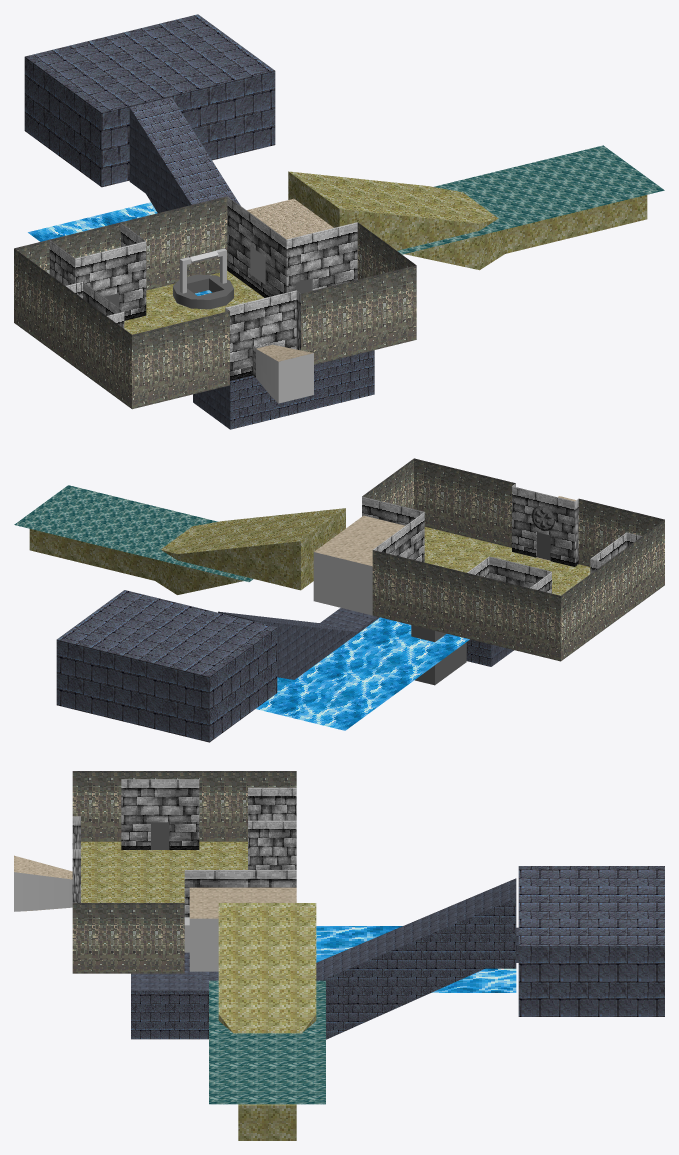
3 renders of one model, top to bottom at view 1: azimuth 30°, elevation 25°; view 2: azimuth 150°, elevation 25°; view 3: azimuth 270°, elevation 25°, orthographic. The views are drawn at different scales.
Visible parts, largest first — view 1: mesh_76, mesh_97, mesh_16, mesh_87, mesh_94, mesh_52, mesh_24, mesh_96; view 2: mesh_76, mesh_97, mesh_16, mesh_96, mesh_94, mesh_24, mesh_87; view 3: mesh_76, mesh_97, mesh_87, mesh_16, mesh_94, mesh_24, mesh_96, mesh_52.
Part boxes in pixels (left/top/right/bottom): mesh_76: left=14, top=196, right=416, bottom=409; mesh_97: left=24, top=14, right=275, bottom=187; mesh_16: left=288, top=171, right=647, bottom=270; mesh_87: left=129, top=97, right=374, bottom=429; mesh_94: left=397, top=145, right=664, bottom=254; mesh_52: left=252, top=342, right=313, bottom=403; mesh_24: left=247, top=198, right=333, bottom=290; mesh_96: left=28, top=202, right=157, bottom=241; mesh_76: left=362, top=458, right=664, bottom=685; mesh_97: left=56, top=590, right=277, bottom=742; mesh_16: left=29, top=508, right=345, bottom=594; mesh_96: left=256, top=617, right=469, bottom=730; mesh_94: left=14, top=485, right=253, bottom=581; mesh_24: left=313, top=515, right=405, bottom=615; mesh_87: left=218, top=608, right=513, bottom=679; mesh_76: left=72, top=771, right=296, bottom=973; mesh_97: left=518, top=866, right=664, bottom=1016; mesh_87: left=131, top=878, right=518, bottom=1039; mesh_16: left=218, top=903, right=316, bottom=1140; mesh_94: left=209, top=980, right=325, bottom=1104; mesh_24: left=184, top=887, right=296, bottom=971; mesh_96: left=316, top=926, right=516, bottom=992; mesh_52: left=14, top=855, right=72, bottom=911.
Bounding box in the file's own units: 4352 × 1032 × 4272.
